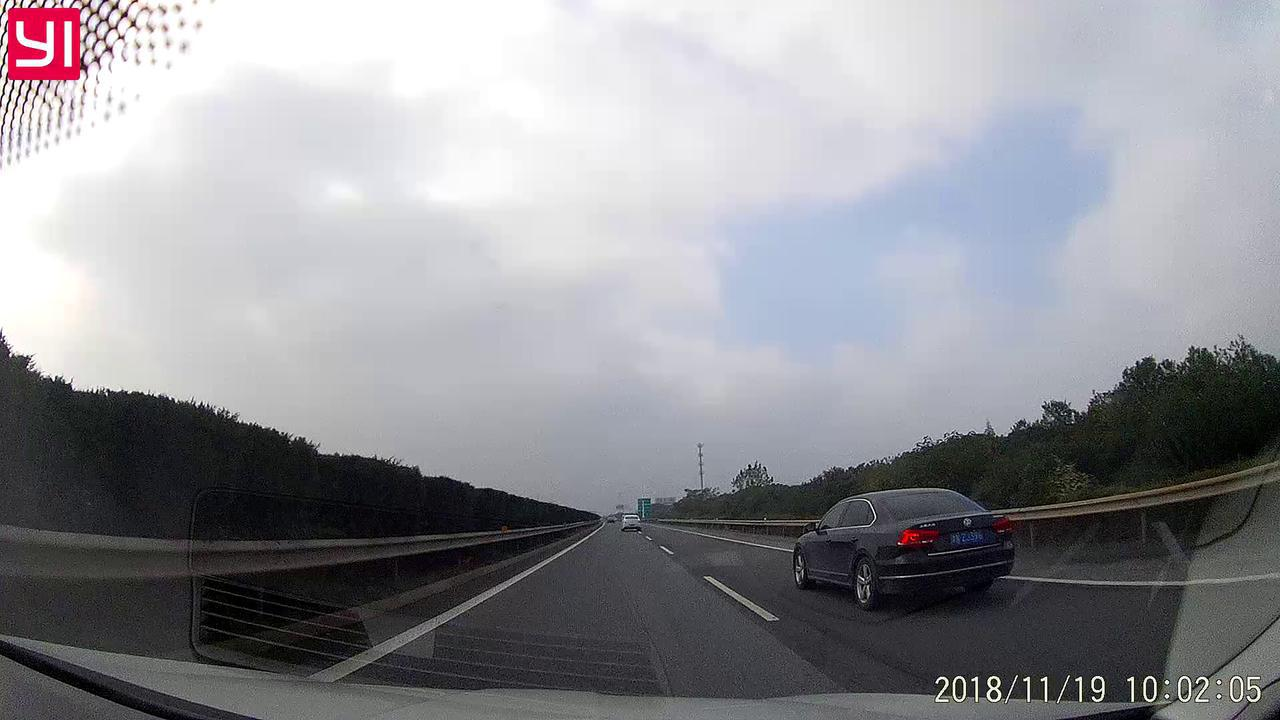car: (790, 487, 1014, 609)
